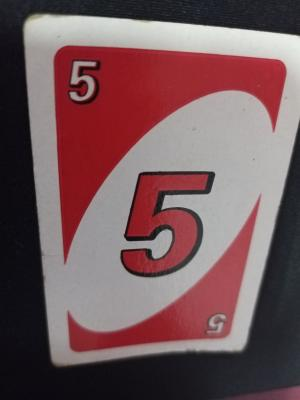num_5: (204, 307, 231, 339)
